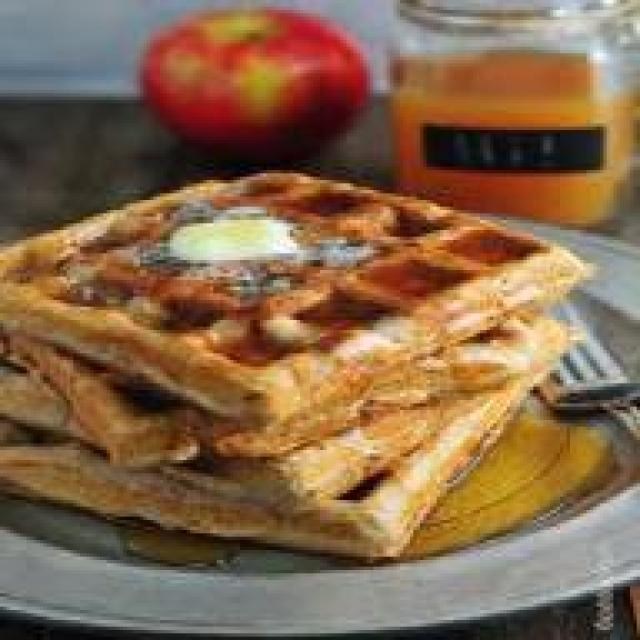apple: (140, 7, 380, 156)
